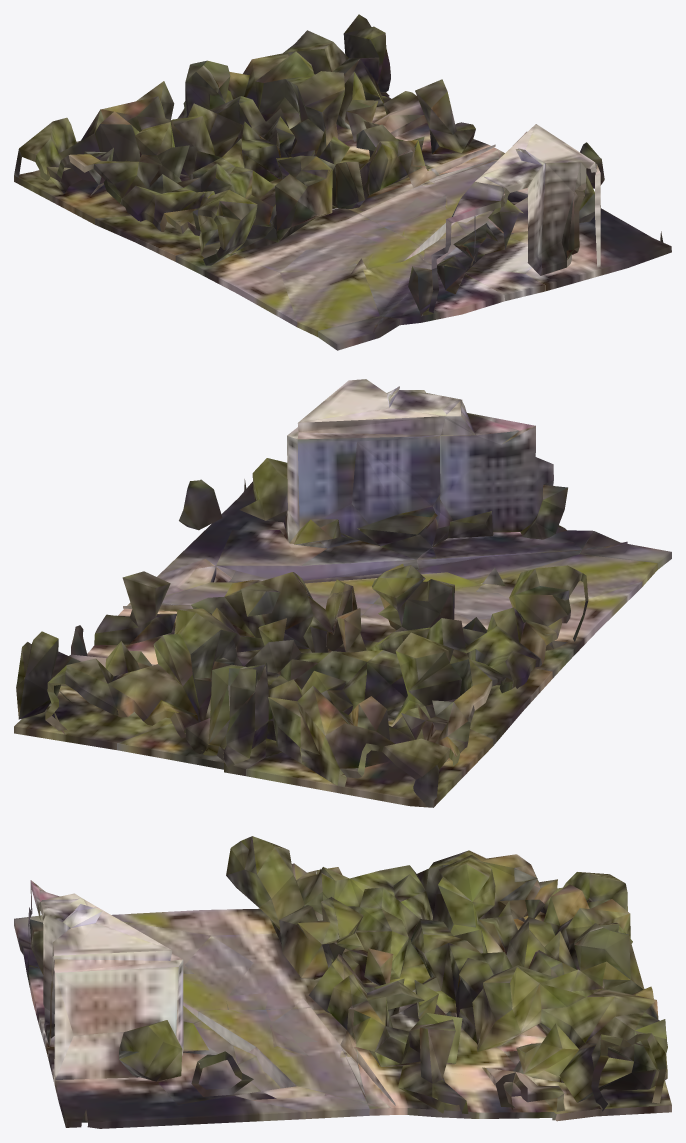
The picture shows the model from 3 angles, top to bottom: view 1: azimuth 30°, elevation 25°; view 2: azimuth 150°, elevation 25°; view 3: azimuth 270°, elevation 25°; orthographic projection. The views are drawn at different scales.
Parts seen in each view (by area): view 1: Mesh_0; view 2: Mesh_0; view 3: Mesh_0.
Part boxes in pixels (x1=…): Mesh_0: x1=14, y1=14, x2=671, y2=350; Mesh_0: x1=14, y1=379, x2=671, y2=807; Mesh_0: x1=14, y1=836, x2=671, y2=1128.
Bounding box in the file's own units: 133 × 45.45 × 165.
Materials: 1 (1 with a texture image).
